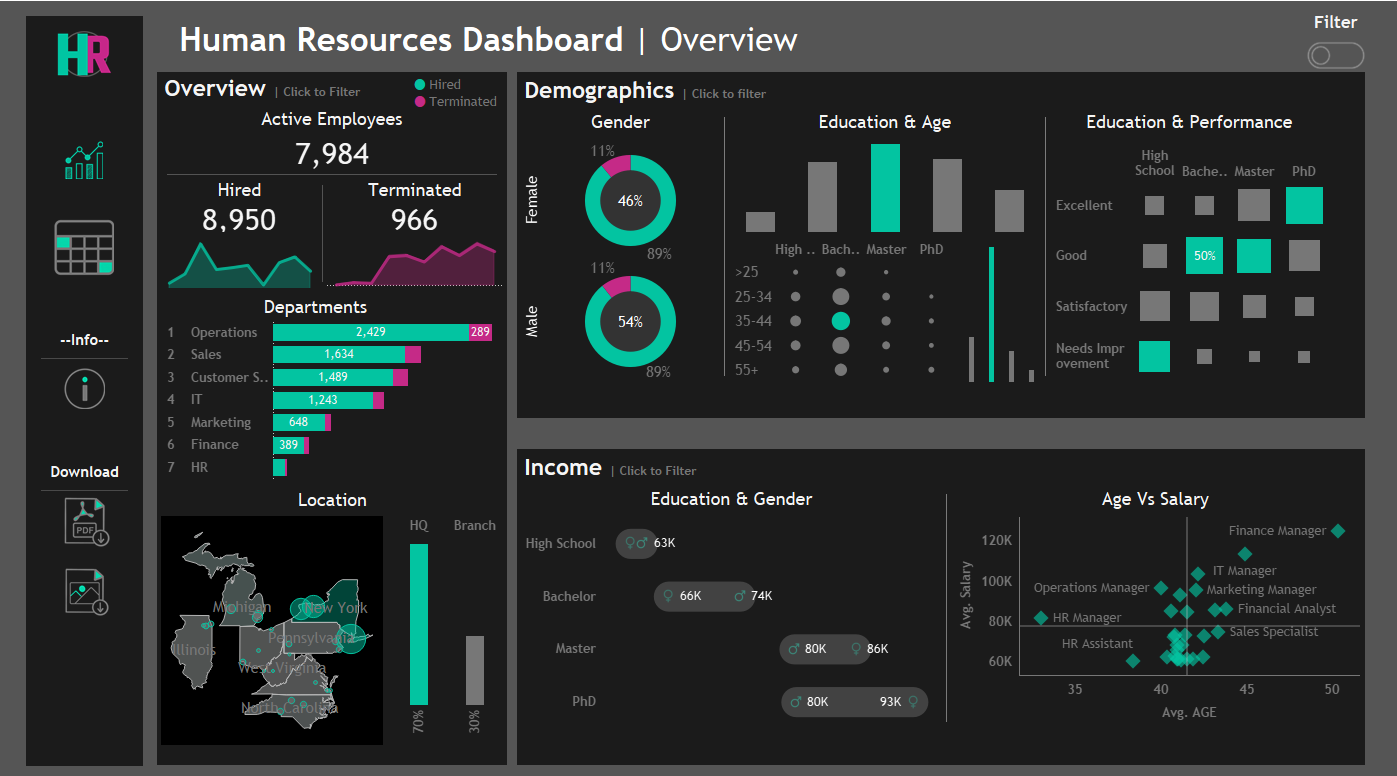

The page's visual inventory and layout, read from the dashboard file:
{"tool":"tableau","page":{"name":"HR | Summary (3)","canvas":[1400,800],"ordinal":3},"visuals":[{"type":"blank","box":[7,7,130,393]},{"type":"text","box":[143,7,676,64]},{"type":"blank","box":[819,7,536,64]},{"type":"text","box":[149,77,352,32]},{"type":"text","box":[509,79,838,35]},{"type":"text","box":[149,109,352,29]},{"type":"text","box":[511,116,207,29]},{"type":"blank","box":[718,116,25,246]},{"type":"text","box":[743,116,261,29]},{"type":"blank","box":[1004,116,25,246]},{"type":"text","box":[1029,116,316,29]},{"type":"worksheet","title":"Active","mark":"Text","box":[149,138,352,41]},{"type":"worksheet","title":"Gender","mark":"Pie","rows":["Gender"],"cols":["Calculation_1937110846429085710","Calculation_1937110846429085710"],"box":[511,145,207,217]},{"type":"worksheet","title":"Age Group","mark":"Bar","rows":["Calculation_1937110846402056192"],"cols":["Calculation_1937110846440509456"],"box":[743,145,261,100]},{"type":"worksheet","title":"Education VS Performance","mark":"Square","rows":["Performance Rating"],"cols":["Education Level"],"box":[1029,145,316,217]},{"type":"blank","box":[149,179,352,25]},{"type":"text","box":[151,206,165,29]},{"type":"blank","box":[316,206,17,113]},{"type":"text","box":[333,206,166,29]},{"type":"worksheet","title":"HIRED","mark":"Text","box":[151,235,165,32]},{"type":"worksheet","title":"Terminated","mark":"Text","box":[333,235,166,32]},{"type":"worksheet","title":"Age VS Education","mark":"Pie","rows":["Calculation_1937110846440509456"],"cols":["Education Level"],"box":[743,245,152.5,117]},{"type":"worksheet","title":"Education Level","mark":"Bar","rows":["Calculation_1937110846402056192"],"cols":["Education Level"],"box":[895.5,245,108.5,117]},{"type":"worksheet","title":"Hired by Years","mark":"Line","rows":["Calculation_1937110846402056192","Calculation_1937110846402056192"],"cols":["Hiredate"],"box":[151,267,165,52]},{"type":"worksheet","title":"Terminated by Years","mark":"Line","rows":["Calculation_1937110846402326529","Calculation_1937110846402326529"],"cols":["Termdate"],"box":[333,267,166,52]},{"type":"blank","box":[149,321,118.7,25]},{"type":"text","box":[267.7,321,114.7,25]},{"type":"blank","box":[382.3,321,118.7,25]},{"type":"worksheet","title":"Departments","mark":"Bar","rows":["Calculation_1937110846415405062","Department"],"cols":["Calculation_1937110846402056192"],"box":[149,346,352,166]},{"type":"blank","box":[7,400,130,393]},{"type":"text","box":[509,415,838,35]},{"type":"text","box":[511,452,410.5,29]},{"type":"blank","box":[921.5,452,25,220]},{"type":"text","box":[946.5,452,398.5,29]},{"type":"worksheet","title":"Education VS Gender Level","mark":"Square","rows":["Education Level"],"cols":["Salary","Salary"],"box":[511,481,410.5,191]},{"type":"worksheet","title":"Age VS Salary","mark":"Shape","rows":["Salary"],"cols":["Calculation_1937110846439919631"],"box":[946.5,481,398.5,191]},{"type":"blank","box":[149,512,120,24]},{"type":"text","box":[269,512,112,24]},{"type":"blank","box":[381,512,120,24]},{"type":"worksheet","title":"MAP STATE","mark":"Automatic","box":[149,536,292,222]},{"type":"worksheet","title":"Location","mark":"Bar","rows":["Calculation_1937110846402056192"],"cols":["Calculation_1937110846422126599","Calculation1"],"box":[441,536,60,222]}]}

Visuals, with their boxes in screenshot pixels (x1, y1, x2, y2), scaled from the page's 1400x800 canvas onto the 1397x776 screenshot:
blank: x1=7, y1=7, x2=137, y2=388
text: x1=143, y1=7, x2=817, y2=69
blank: x1=817, y1=7, x2=1352, y2=69
text: x1=149, y1=75, x2=500, y2=106
text: x1=508, y1=77, x2=1344, y2=111
text: x1=149, y1=106, x2=500, y2=134
text: x1=510, y1=113, x2=716, y2=141
blank: x1=716, y1=113, x2=741, y2=351
text: x1=741, y1=113, x2=1002, y2=141
blank: x1=1002, y1=113, x2=1027, y2=351
text: x1=1027, y1=113, x2=1342, y2=141
"Active" worksheet (Text marks): x1=149, y1=134, x2=500, y2=174
"Gender" worksheet (Pie marks): x1=510, y1=141, x2=716, y2=351
"Age Group" worksheet (Bar marks): x1=741, y1=141, x2=1002, y2=238
"Education VS Performance" worksheet (Square marks): x1=1027, y1=141, x2=1342, y2=351
blank: x1=149, y1=174, x2=500, y2=198
text: x1=151, y1=200, x2=315, y2=228
blank: x1=315, y1=200, x2=332, y2=309
text: x1=332, y1=200, x2=498, y2=228
"HIRED" worksheet (Text marks): x1=151, y1=228, x2=315, y2=259
"Terminated" worksheet (Text marks): x1=332, y1=228, x2=498, y2=259
"Age VS Education" worksheet (Pie marks): x1=741, y1=238, x2=894, y2=351
"Education Level" worksheet (Bar marks): x1=894, y1=238, x2=1002, y2=351
"Hired by Years" worksheet (Line marks): x1=151, y1=259, x2=315, y2=309
"Terminated by Years" worksheet (Line marks): x1=332, y1=259, x2=498, y2=309
blank: x1=149, y1=311, x2=267, y2=336
text: x1=267, y1=311, x2=382, y2=336
blank: x1=381, y1=311, x2=500, y2=336
"Departments" worksheet (Bar marks): x1=149, y1=336, x2=500, y2=497
blank: x1=7, y1=388, x2=137, y2=769
text: x1=508, y1=403, x2=1344, y2=436
text: x1=510, y1=438, x2=920, y2=467
blank: x1=920, y1=438, x2=944, y2=652
text: x1=944, y1=438, x2=1342, y2=467
"Education VS Gender Level" worksheet (Square marks): x1=510, y1=467, x2=920, y2=652
"Age VS Salary" worksheet (Shape marks): x1=944, y1=467, x2=1342, y2=652
blank: x1=149, y1=497, x2=268, y2=520
text: x1=268, y1=497, x2=380, y2=520
blank: x1=380, y1=497, x2=500, y2=520
"MAP STATE" worksheet: x1=149, y1=520, x2=440, y2=735
"Location" worksheet (Bar marks): x1=440, y1=520, x2=500, y2=735
